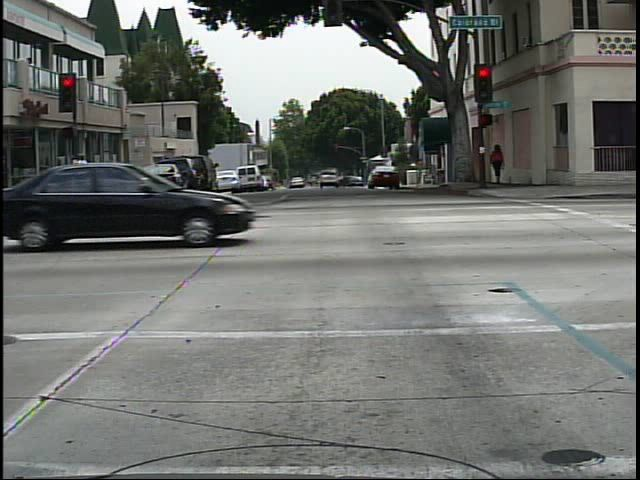person: (66, 147, 95, 209), (488, 137, 514, 191)
